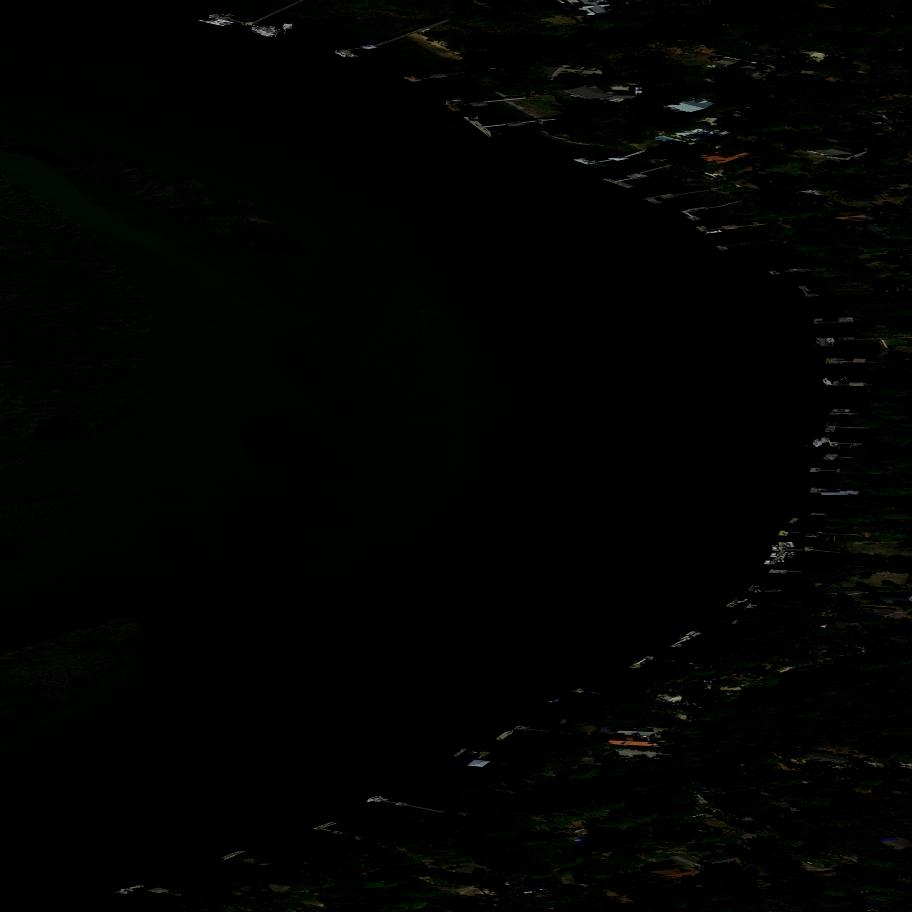ship: (246, 22, 275, 42), (332, 47, 350, 63), (264, 21, 283, 36), (811, 437, 831, 451), (365, 795, 384, 807), (444, 97, 464, 108), (122, 886, 137, 898), (270, 23, 292, 31), (785, 525, 802, 533), (220, 12, 238, 19), (839, 376, 850, 385), (279, 24, 298, 29), (735, 598, 750, 604), (753, 587, 764, 595), (821, 379, 832, 386), (825, 339, 838, 344), (468, 751, 479, 756), (491, 132, 504, 136), (469, 116, 482, 120), (810, 340, 819, 344), (786, 553, 797, 556), (779, 557, 787, 560), (691, 865, 702, 867)
